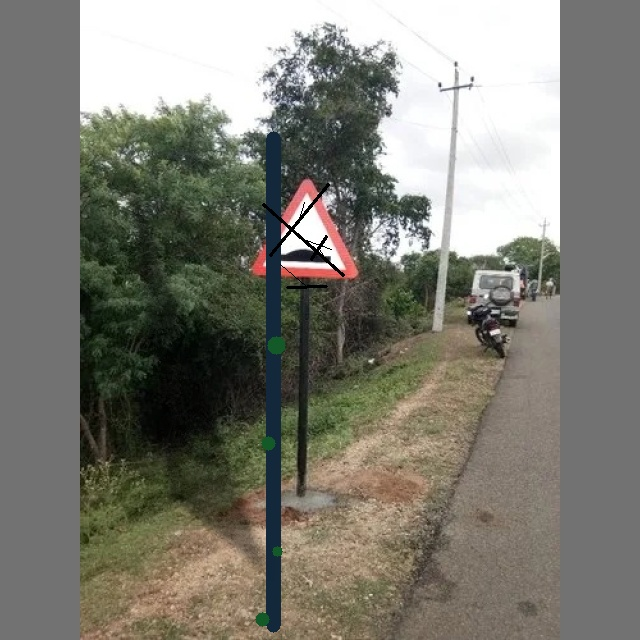Hump_or_Rough_Road: (245, 176, 362, 289)
